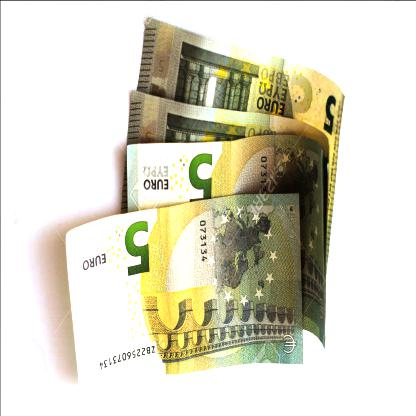euro_banknote: (67, 205, 313, 386), (119, 144, 335, 340), (109, 102, 359, 250), (104, 78, 384, 161)
